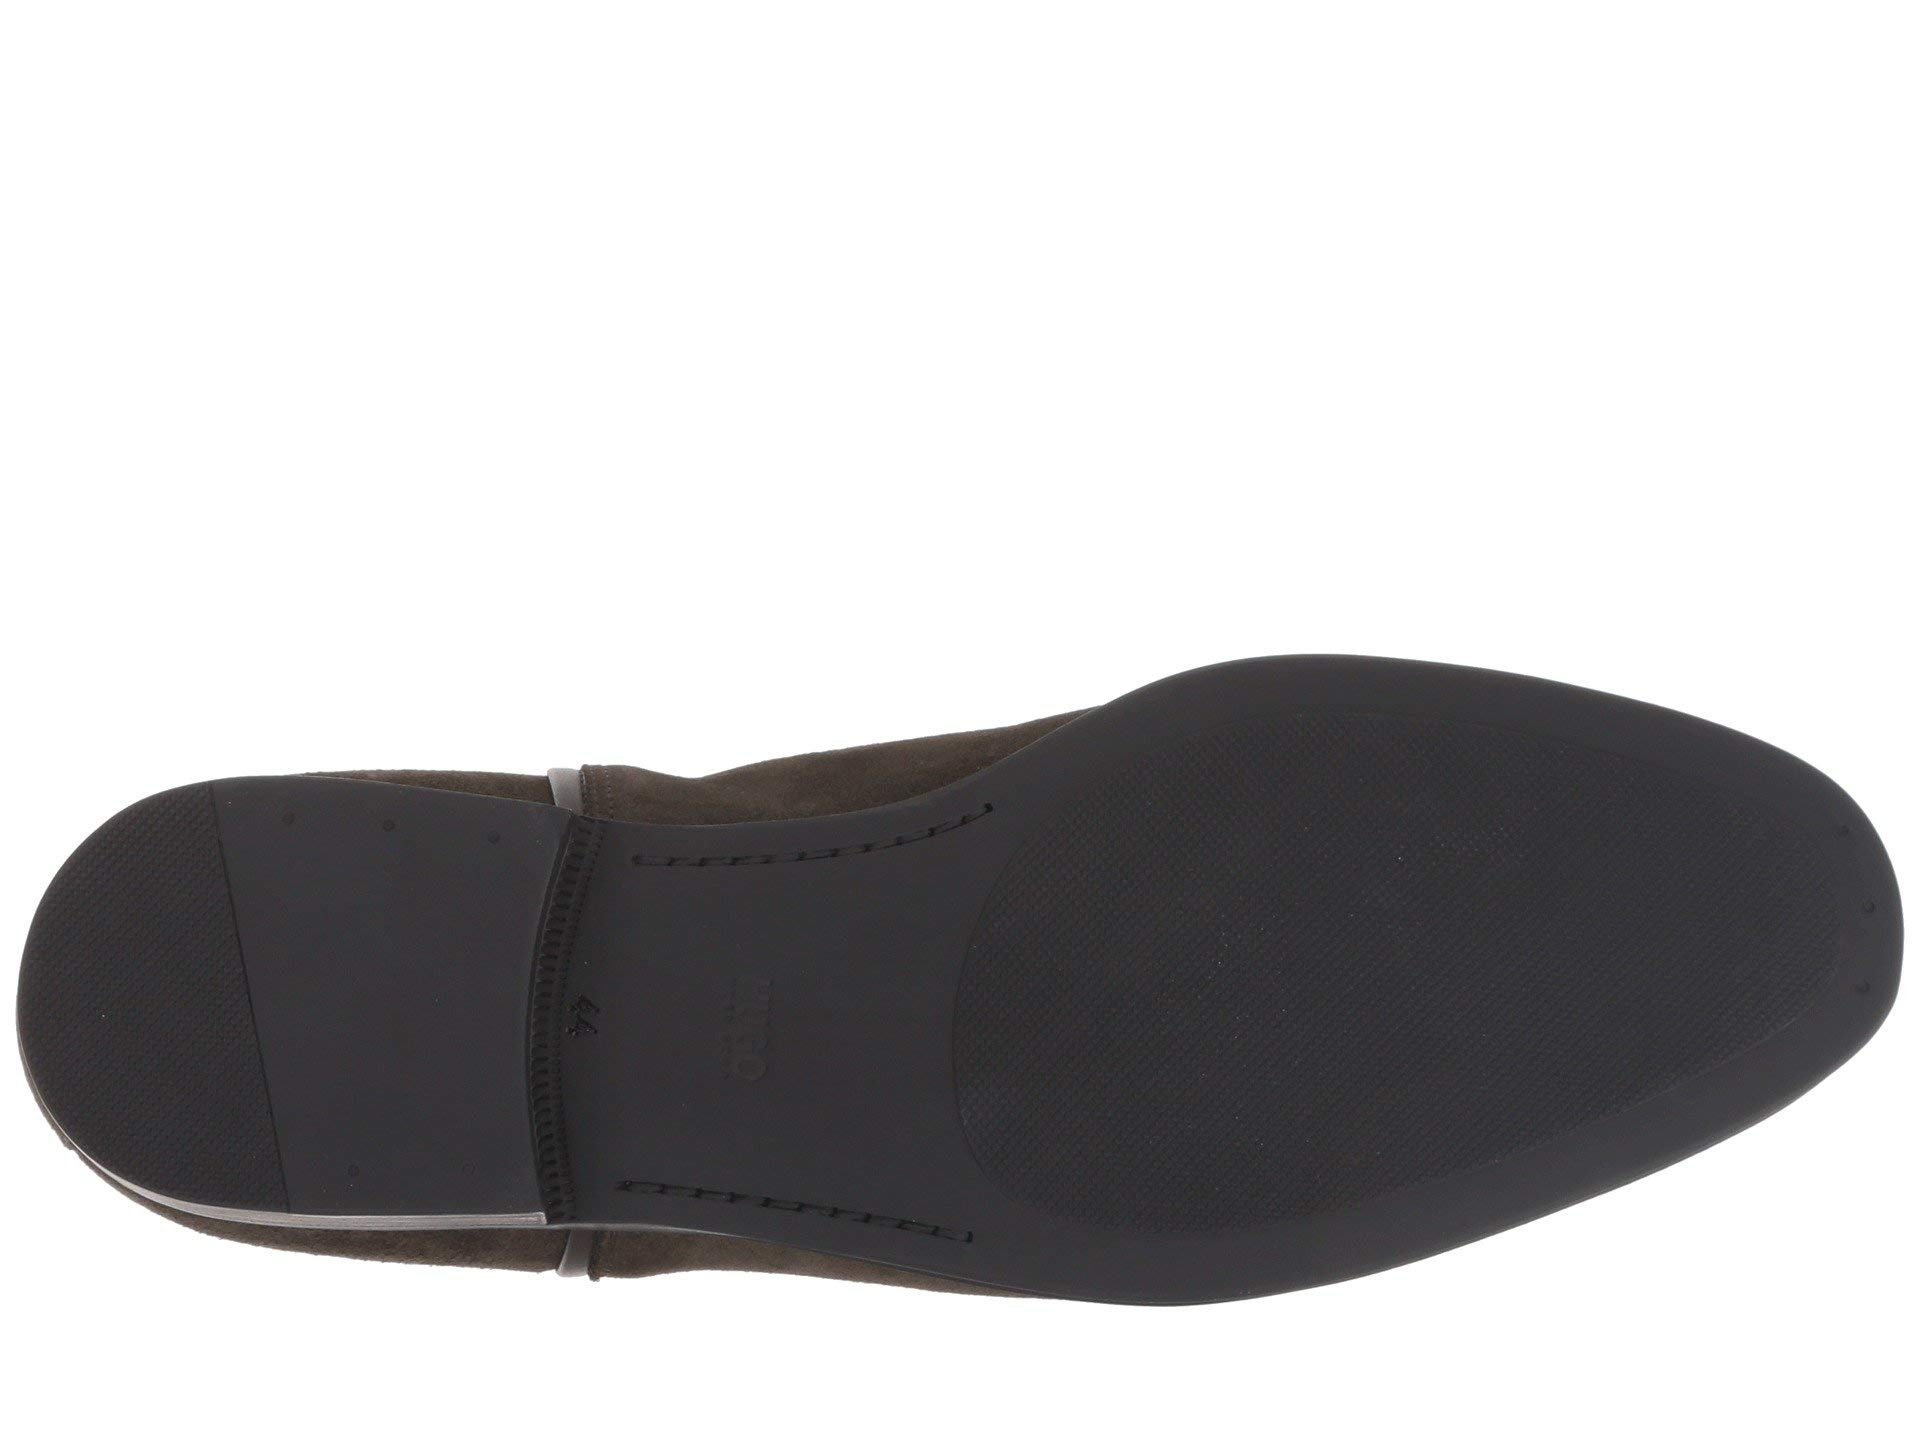circle: (171, 793, 538, 1193), (553, 970, 806, 1100)
line: (171, 793, 538, 1193), (590, 835, 1020, 914)
quad: (1085, 771, 1631, 1082)
text: (553, 970, 806, 1100)
